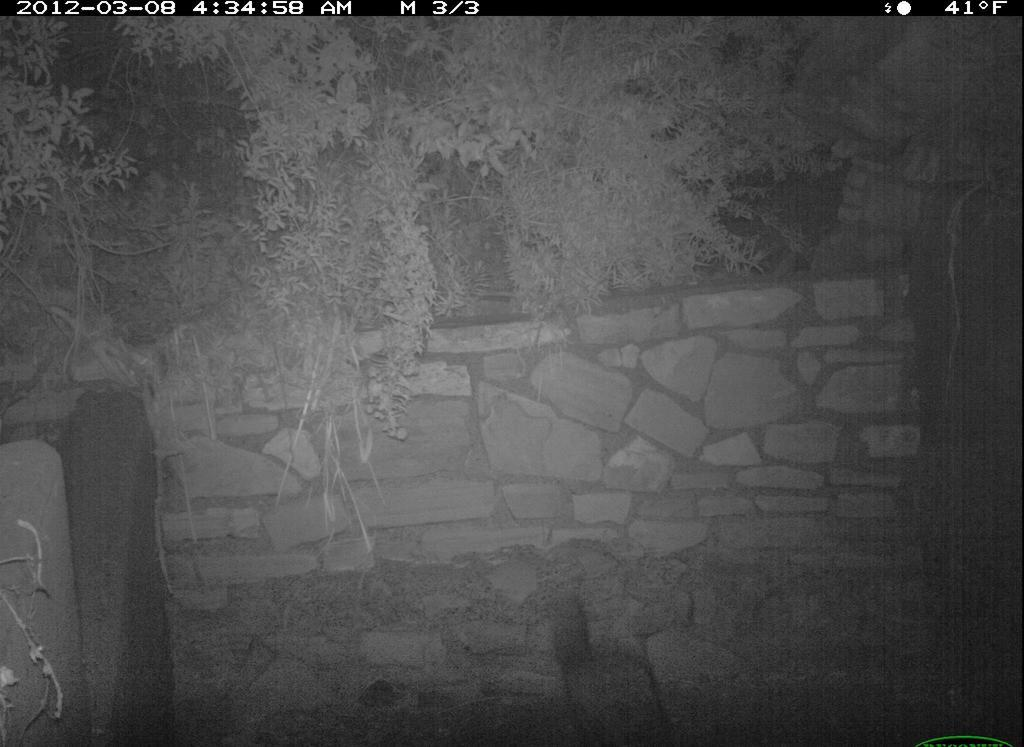raccoon: (546, 573, 692, 747)
